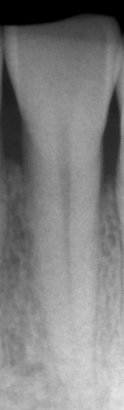tooth: (1, 16, 123, 397)
